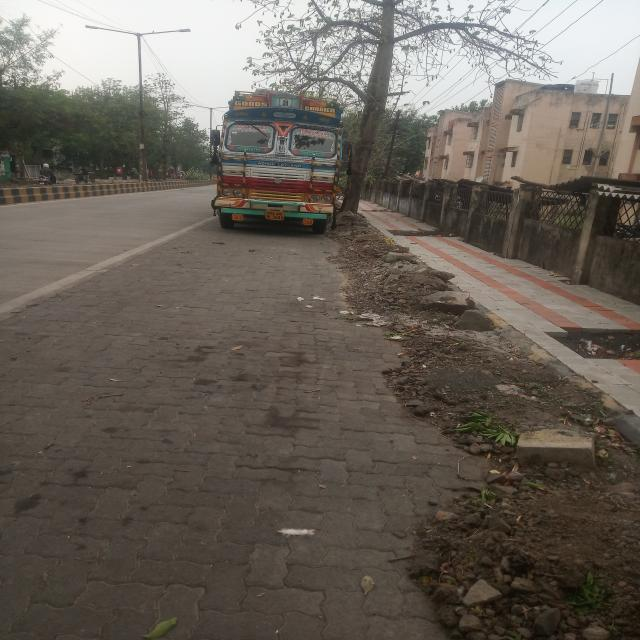Truck: (212, 86, 348, 245)
